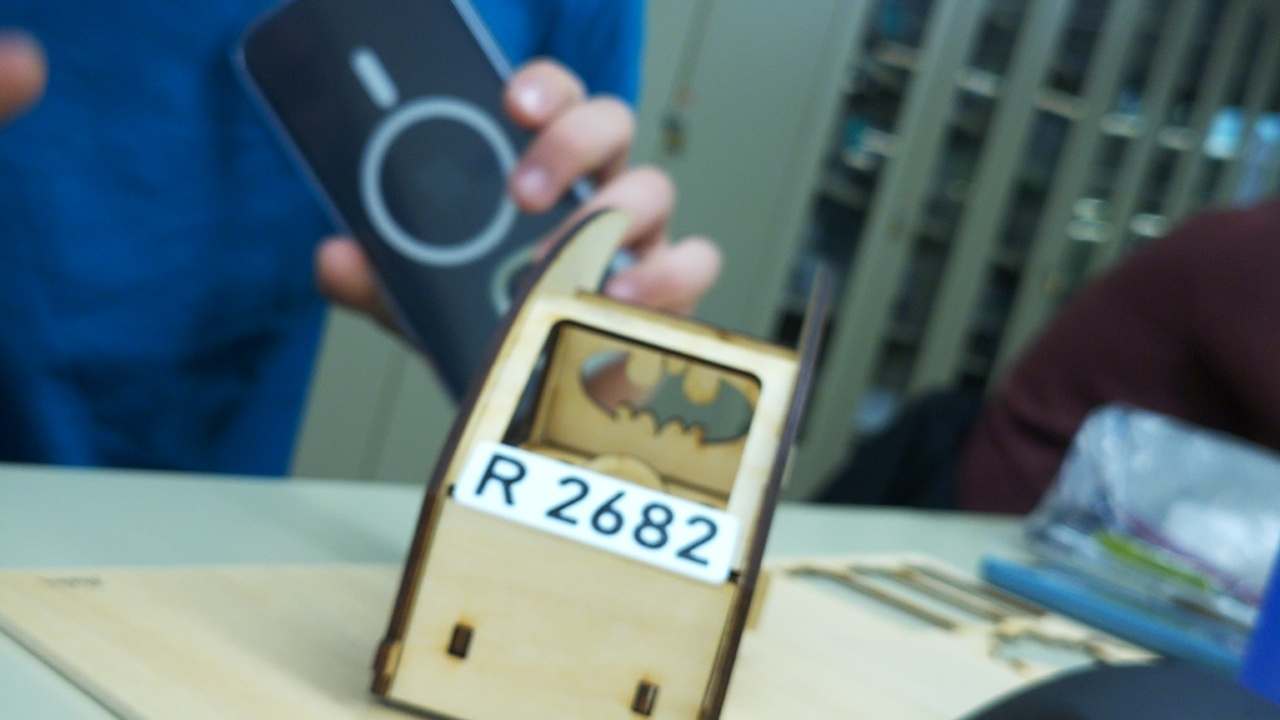license_plate: (453, 436, 744, 587)
